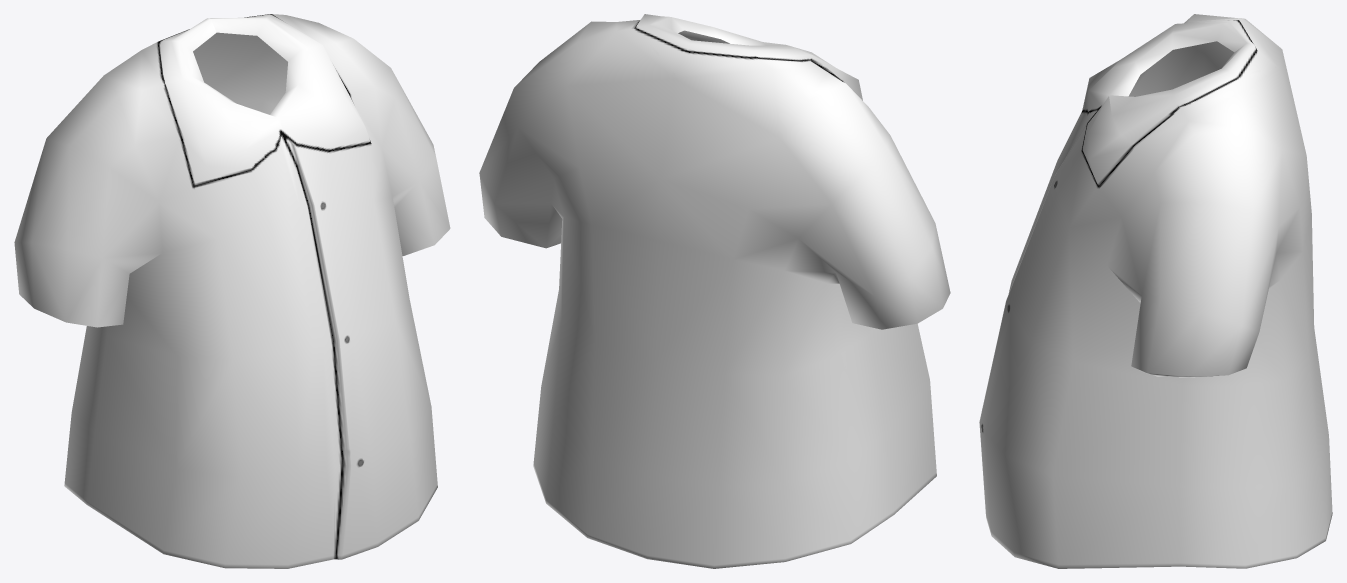
Rendered from AF_M_Jacket_03.fbx.
3 renders of one model, left to right at view 1: azimuth 30°, elevation 25°; view 2: azimuth 150°, elevation 25°; view 3: azimuth 270°, elevation 25°, orthographic. The views are drawn at different scales.
Parts seen in each view (by area): view 1: AF_M_Jacket_03; view 2: AF_M_Jacket_03; view 3: AF_M_Jacket_03.
Part boxes in pixels (<box>): AF_M_Jacket_03: <box>14,14,450,568</box>; AF_M_Jacket_03: <box>479,14,950,568</box>; AF_M_Jacket_03: <box>979,14,1332,568</box>.
Size of the model in its own units: 480 by 509 by 343.
